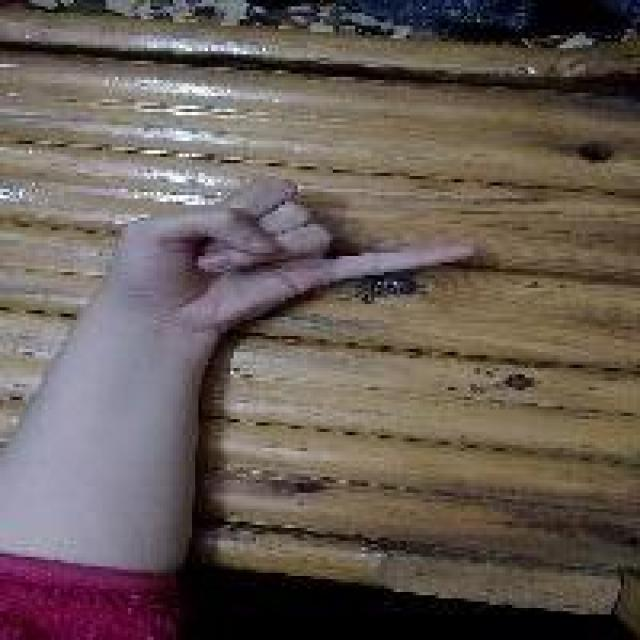J: (116, 171, 487, 328)
